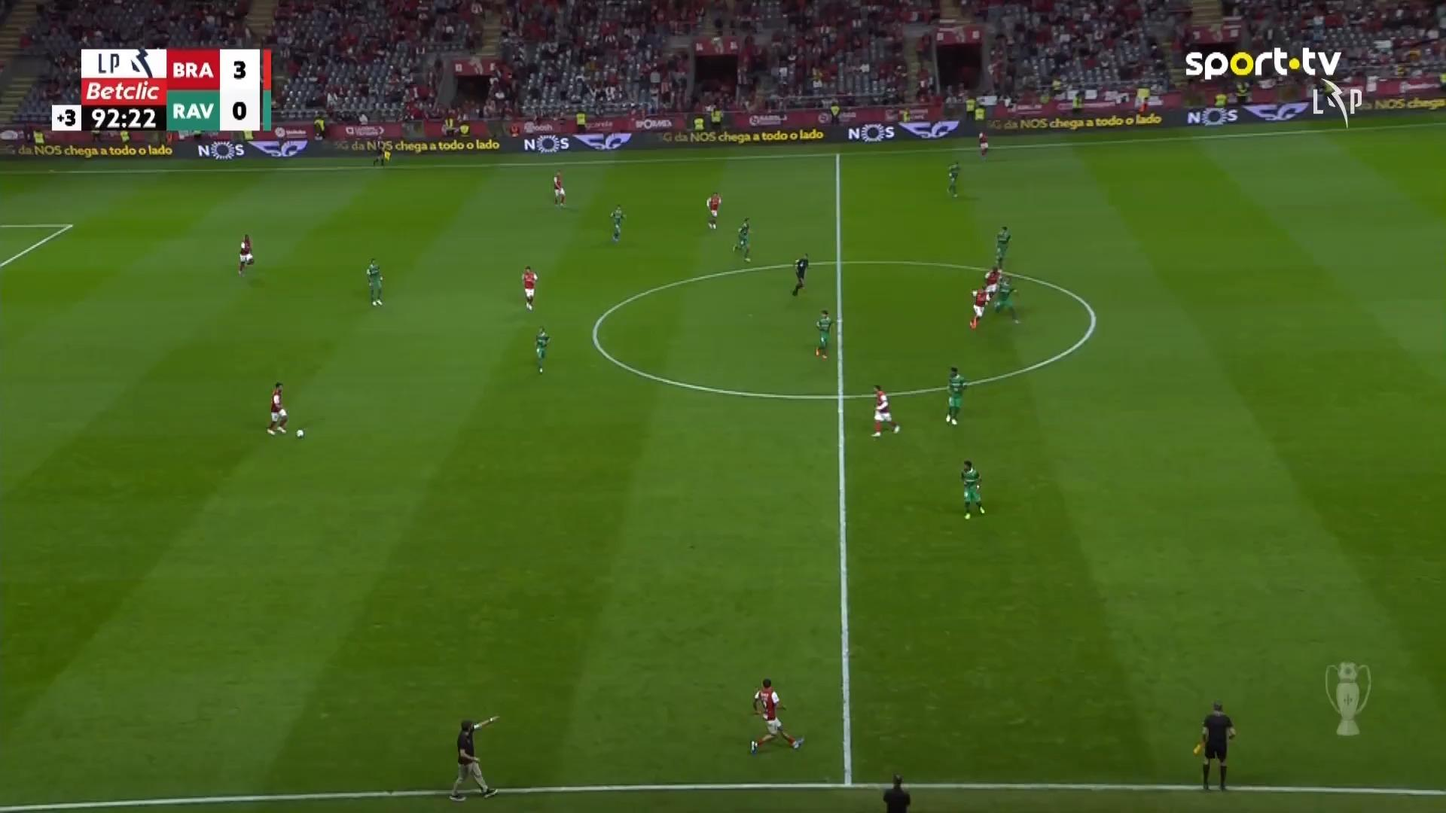ball: (295, 429, 303, 438)
player: (749, 677, 804, 754), (870, 384, 900, 437), (959, 458, 985, 519), (944, 366, 966, 425), (993, 276, 1020, 323), (266, 381, 288, 435), (365, 257, 383, 306), (814, 309, 832, 358), (733, 216, 752, 262), (969, 285, 988, 329), (520, 265, 537, 311), (534, 325, 550, 373), (236, 233, 254, 275), (994, 224, 1011, 268), (983, 263, 1002, 300), (705, 190, 721, 230), (609, 204, 625, 242), (551, 170, 566, 207), (947, 160, 960, 197), (977, 129, 989, 158)
referee: (448, 714, 500, 801), (1194, 700, 1235, 791), (883, 772, 910, 811), (792, 252, 808, 295)
